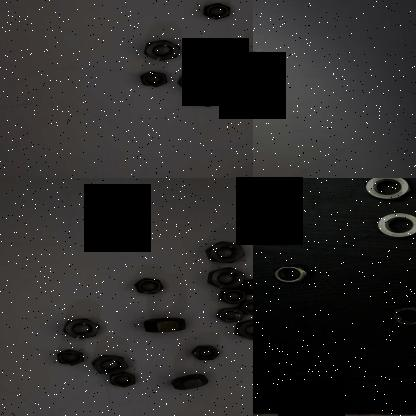NUTS: (356, 178, 416, 205), (372, 211, 416, 240), (135, 38, 185, 63), (200, 239, 247, 265), (272, 260, 314, 288), (59, 318, 104, 342), (136, 316, 190, 335), (206, 265, 245, 291), (382, 301, 416, 330), (89, 354, 130, 378), (210, 67, 250, 90), (164, 373, 210, 393), (180, 70, 212, 95), (197, 1, 234, 22), (132, 277, 166, 296), (215, 286, 247, 306), (187, 344, 221, 362), (214, 305, 244, 325), (133, 70, 166, 88), (53, 348, 83, 367), (193, 90, 221, 110), (233, 315, 253, 343), (107, 372, 137, 388), (235, 53, 253, 78), (253, 50, 274, 70), (235, 297, 253, 317), (236, 277, 253, 297)
